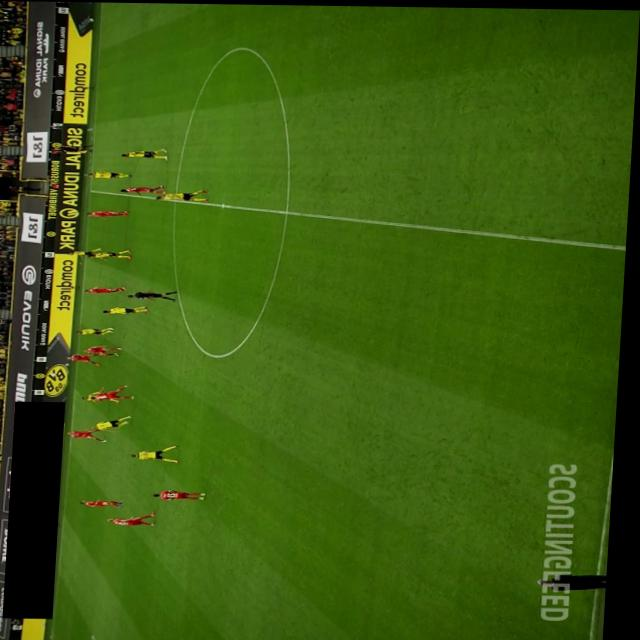player: (136, 442, 186, 462), (93, 383, 140, 400), (96, 413, 137, 432), (113, 510, 163, 525), (157, 188, 212, 201), (123, 146, 171, 160), (158, 488, 212, 500), (71, 426, 114, 441), (90, 247, 135, 260), (69, 245, 110, 259), (87, 389, 126, 403), (70, 351, 107, 365), (88, 209, 132, 219), (87, 344, 127, 355), (122, 184, 169, 193), (88, 169, 135, 178), (106, 304, 153, 313), (85, 498, 130, 507), (87, 284, 130, 293), (80, 326, 119, 335)
referee: (130, 288, 182, 301), (55, 143, 95, 152)
